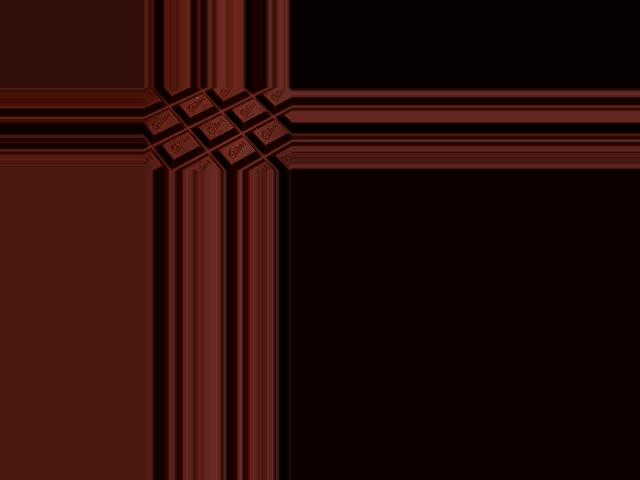chocolate: (144, 90, 287, 171)
